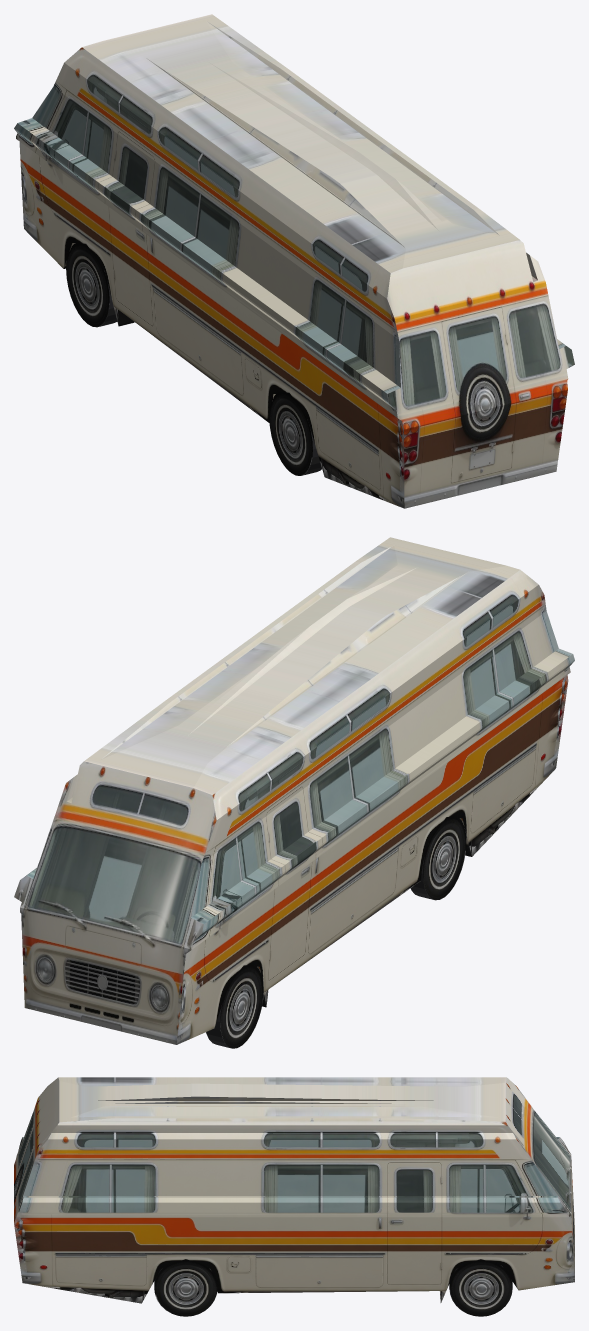
The model's file is motorhome.glb.
3 renders of one model, top to bottom at view 1: azimuth 30°, elevation 25°; view 2: azimuth 150°, elevation 25°; view 3: azimuth 270°, elevation 25°, orthographic. The views are drawn at different scales.
Visible parts, largest first — view 1: motorhome, wheel_BL, wheel_FL; view 2: motorhome, wheel_FL, wheel_BL; view 3: motorhome, wheel_FR, wheel_BR.
Part boxes in pixels (x1,y1,x2,y2): motorhome: [14, 14, 574, 508]; wheel_BL: [269, 392, 321, 475]; wheel_FL: [66, 243, 117, 327]; motorhome: [14, 537, 574, 1044]; wheel_FL: [206, 965, 263, 1048]; wheel_BL: [410, 817, 466, 900]; motorhome: [14, 1077, 574, 1303]; wheel_FR: [449, 1259, 512, 1316]; wheel_BR: [154, 1259, 217, 1316].
Bounding box in the file's own units: 2.49 × 3.49 × 8.97.
Materials: 3 (1 with a texture image).
